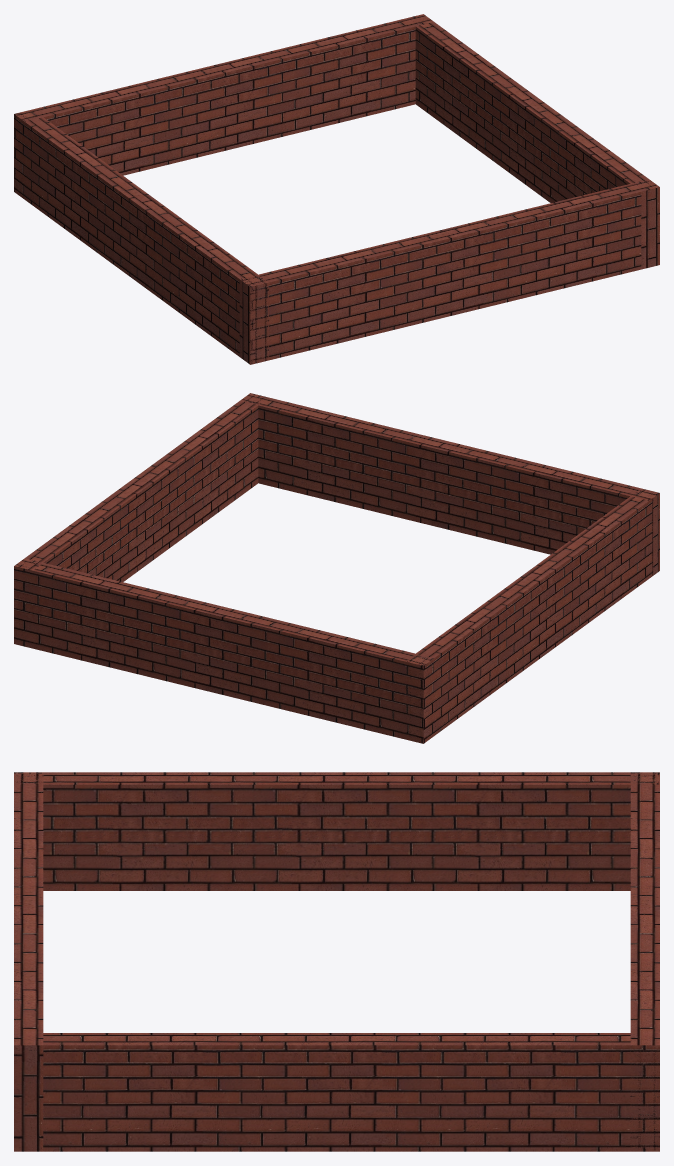
Rendered from bricks.fbx.
The picture shows the model from 3 angles, top to bottom: view 1: azimuth 30°, elevation 25°; view 2: azimuth 150°, elevation 25°; view 3: azimuth 270°, elevation 25°; orthographic projection. The views are drawn at different scales.
Parts seen in each view (by area): view 1: Cube.003, Cube.004, Cube.001, Cube.002; view 2: Cube.004, Cube.003, Cube.001, Cube.002; view 3: Cube.002, Cube.001, Cube.003, Cube.004.
Part boxes in pixels (x1=…): Cube.003: x1=239, y1=180, x2=659, y2=364; Cube.004: x1=15, y1=14, x2=433, y2=175; Cube.001: x1=14, y1=111, x2=268, y2=364; Cube.002: x1=408, y1=14, x2=659, y2=269; Cube.004: x1=14, y1=558, x2=433, y2=743; Cube.003: x1=240, y1=393, x2=659, y2=575; Cube.001: x1=405, y1=488, x2=657, y2=743; Cube.002: x1=15, y1=393, x2=268, y2=581; Cube.002: x1=14, y1=1033, x2=659, y2=1151; Cube.001: x1=14, y1=772, x2=659, y2=890; Cube.003: x1=14, y1=772, x2=43, y2=1151; Cube.004: x1=630, y1=772, x2=659, y2=1151.
Size of the model in its own units: 2200 by 400 by 2200.
